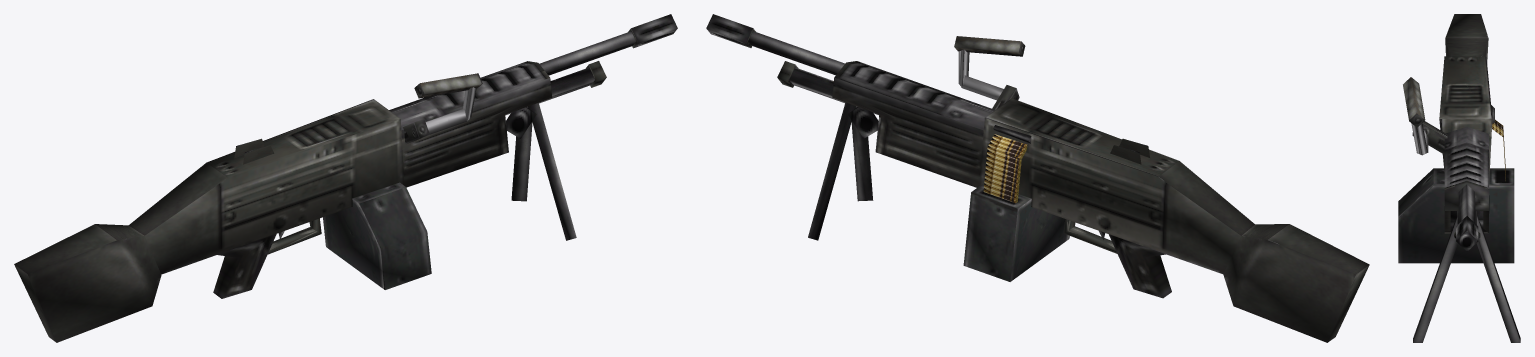
File: m249-opposing-force.glb
3 renders of one model, left to right at view 1: azimuth 30°, elevation 25°; view 2: azimuth 150°, elevation 25°; view 3: azimuth 270°, elevation 25°, orthographic.
Size of the model in its own units: 81.77 by 23.37 by 13.54.
Materials: 3 (3 with a texture image).
